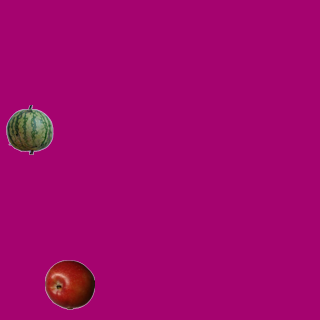Apple Braeburn: (44, 259, 94, 309)
Watermelon: (4, 104, 54, 154)
